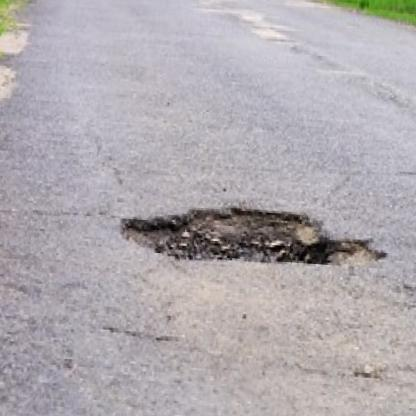pothole: (115, 198, 391, 278)
